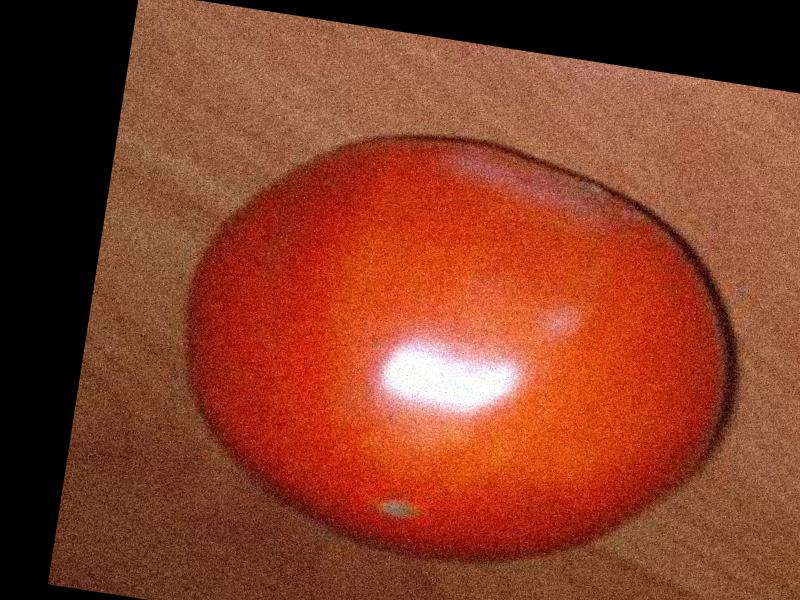Tomato: (148, 103, 766, 600)
